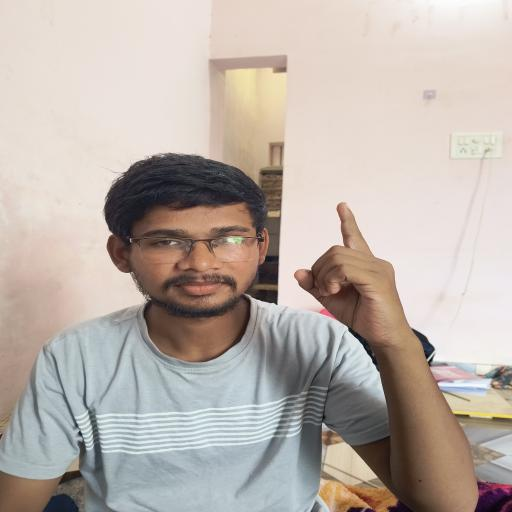What: (268, 186, 448, 368)
